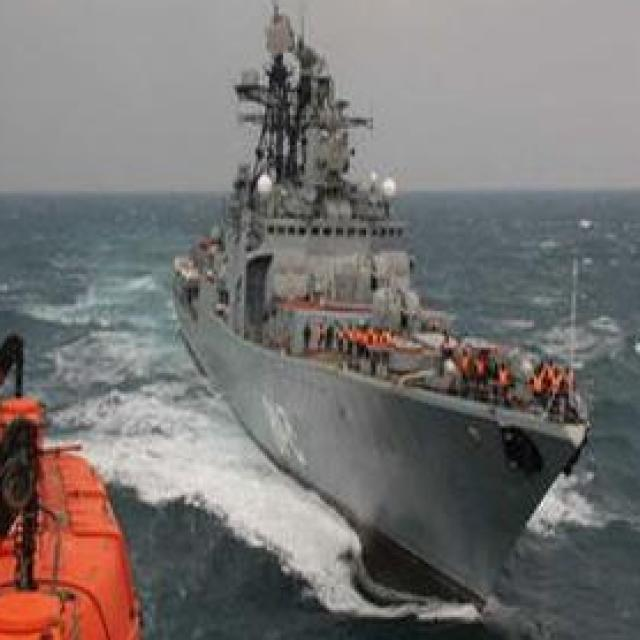navalvessels: (166, 0, 589, 592)
